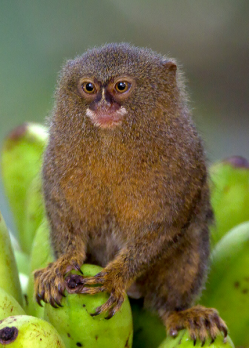PygmyMarmoset: (39, 46, 214, 314)
